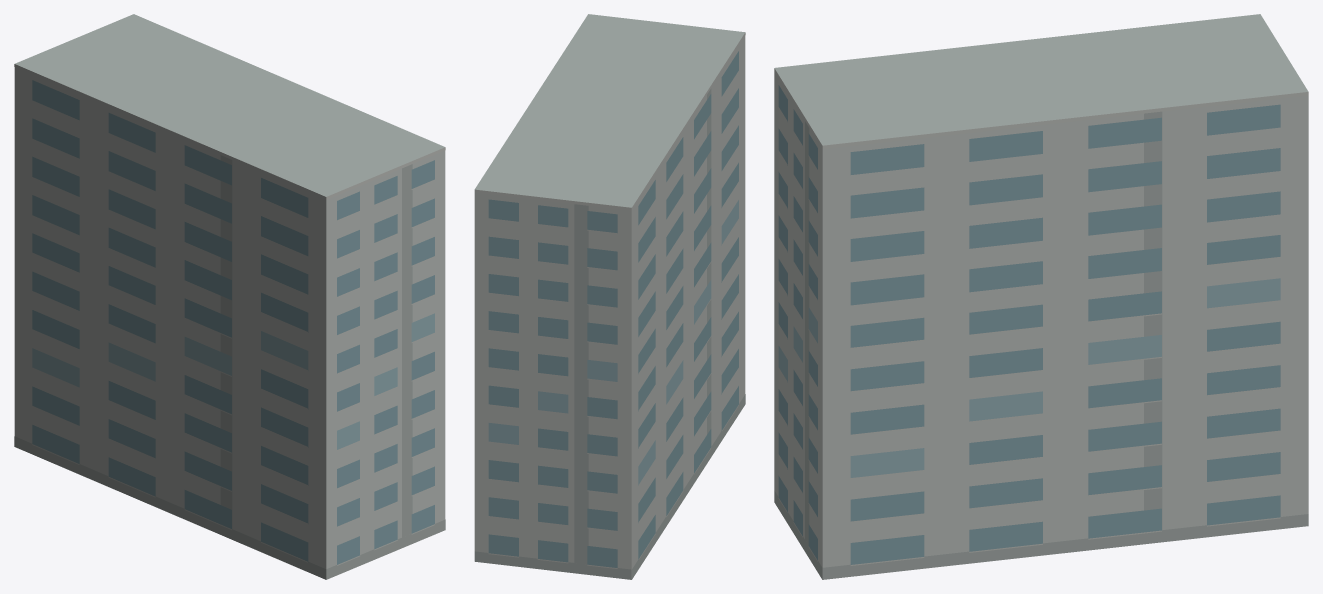
Rendered from residential-e057ac88-67e4-4c71-b76d-781246491982.glb.
The picture shows the model from 3 angles, left to right: view 1: azimuth 30°, elevation 25°; view 2: azimuth 150°, elevation 25°; view 3: azimuth 270°, elevation 25°; orthographic projection. The views are drawn at different scales.
Parts seen in each view (by area): view 1: residential-e057ac88-67e4-4c71-b76d-781246491982.tmp; view 2: residential-e057ac88-67e4-4c71-b76d-781246491982.tmp; view 3: residential-e057ac88-67e4-4c71-b76d-781246491982.tmp.
Part boxes in pixels (<box>): residential-e057ac88-67e4-4c71-b76d-781246491982.tmp: <box>14,14,445,579</box>; residential-e057ac88-67e4-4c71-b76d-781246491982.tmp: <box>474,14,745,579</box>; residential-e057ac88-67e4-4c71-b76d-781246491982.tmp: <box>774,14,1308,579</box>.
Bounding box in the file's own units: 19.51 × 30 × 33.46.
